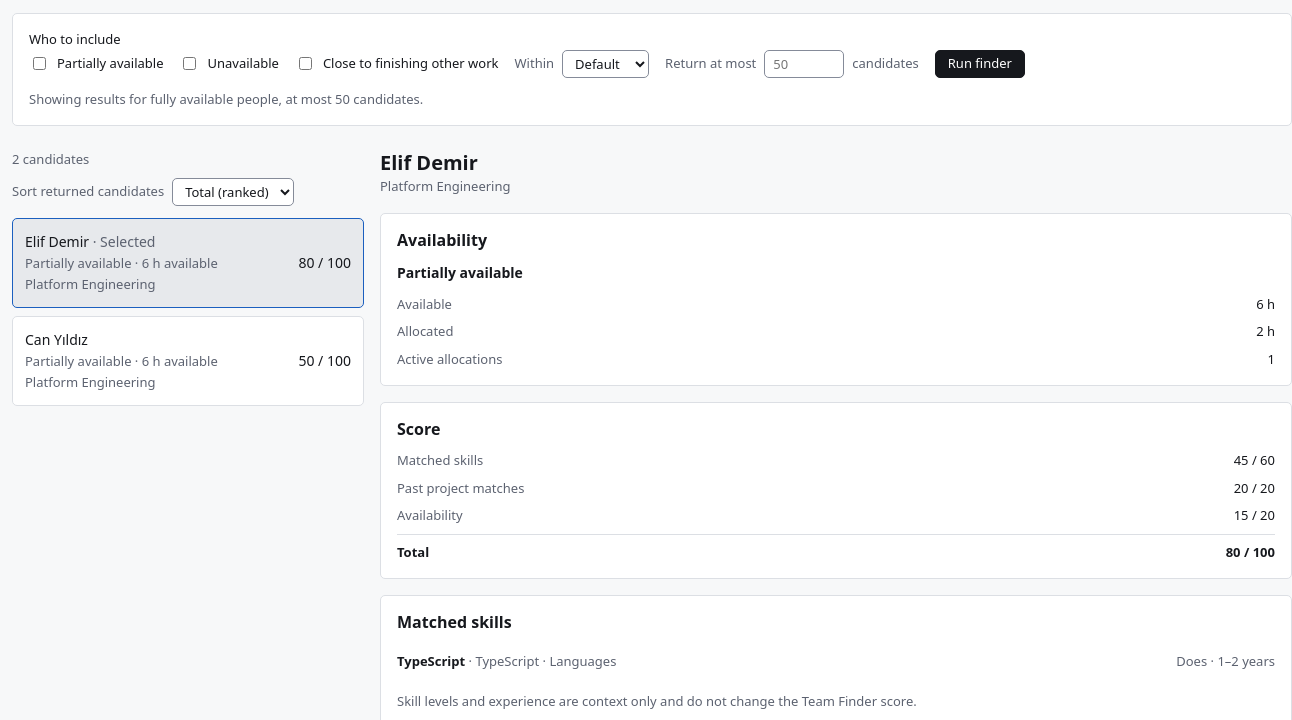
Test: selection › switches candidate without re-running the finder
This screenshot has width=1292, height=720.
(page scrolled)
Click the button "Can Yıldız".
click(188, 360)  # box [12, 316, 364, 406]
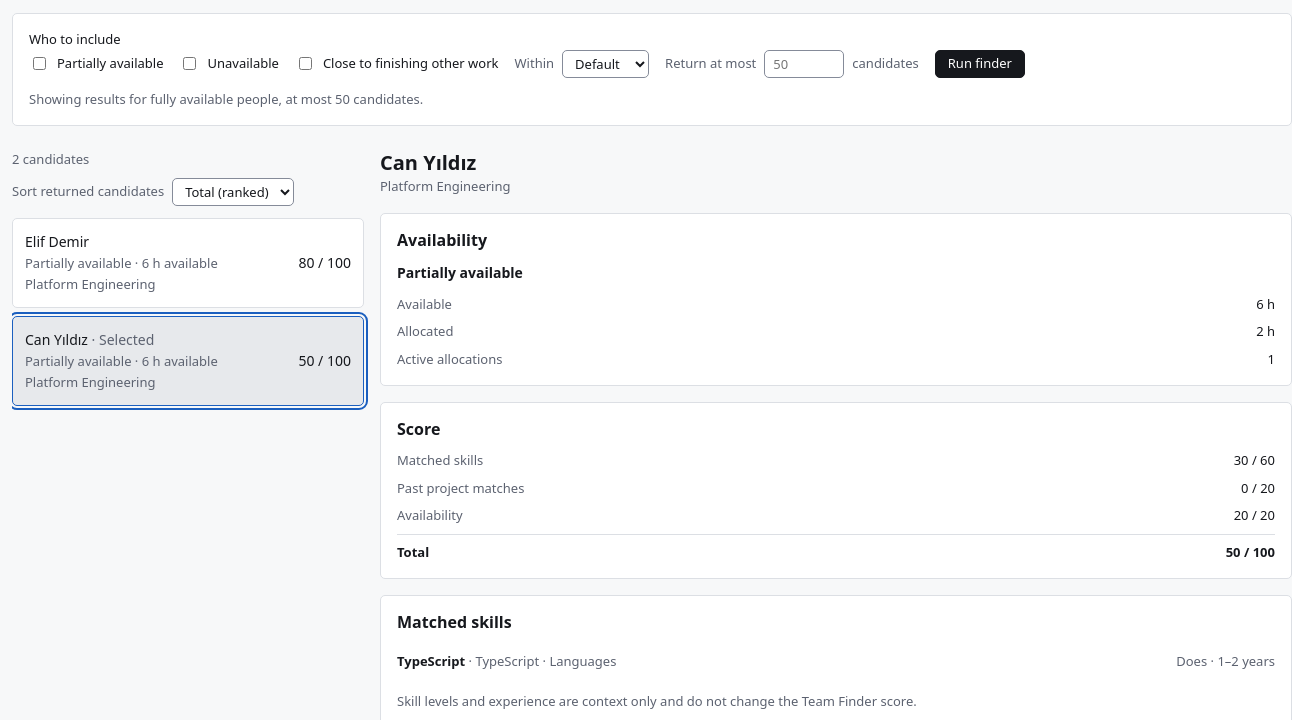
Check: the heading "Can Yıldız" is shown, box [380, 149, 476, 176]
Check: the text "30 / 60" is shown, box [1234, 451, 1275, 470]
